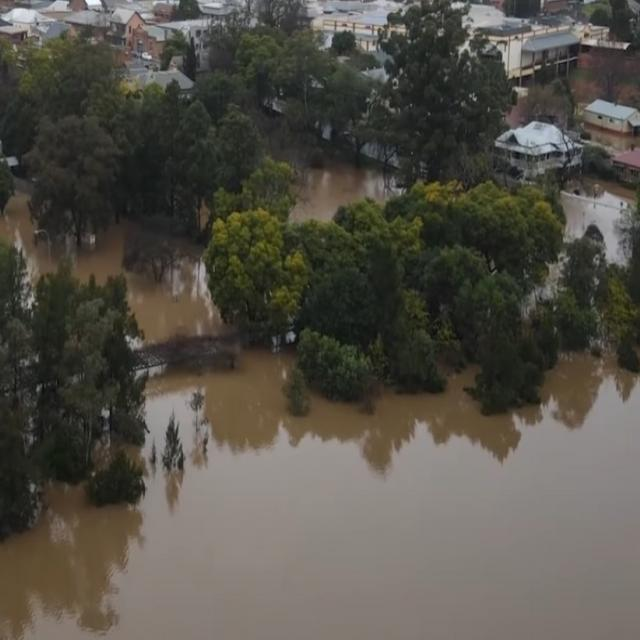flood: (0, 351, 640, 640), (125, 260, 226, 342), (291, 162, 400, 221), (562, 191, 633, 264), (0, 190, 56, 280), (76, 221, 129, 280)
house: (494, 119, 575, 194), (502, 17, 582, 78), (585, 97, 640, 138), (106, 5, 148, 40)
